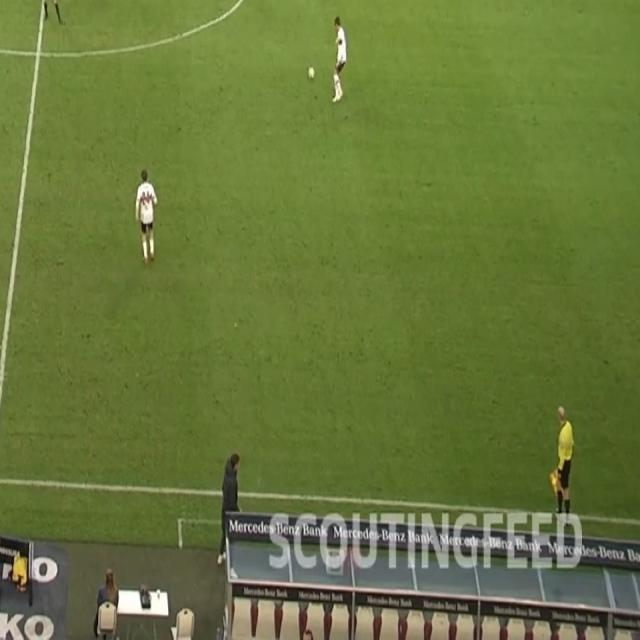ball: (306, 64, 316, 82)
